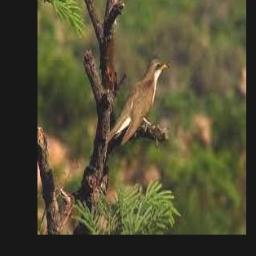Cuckoo: (106, 57, 167, 146)
